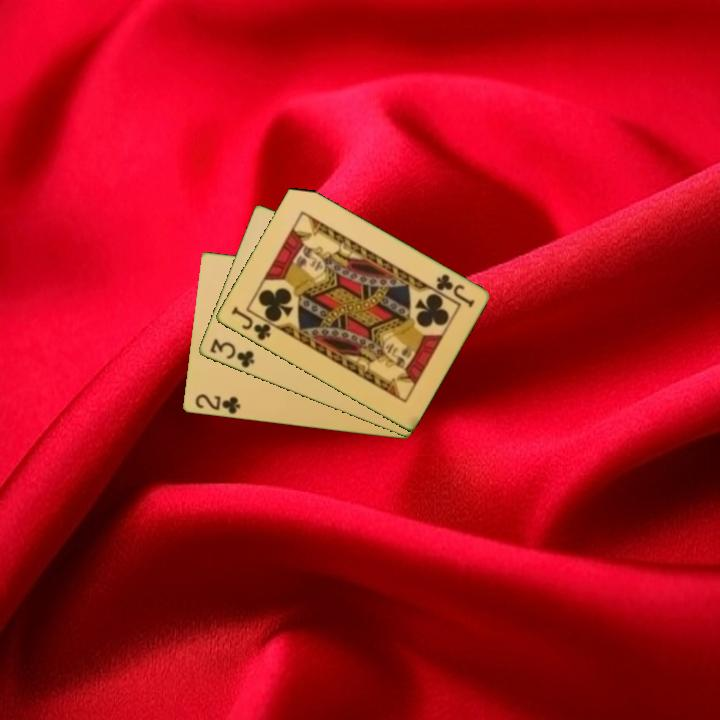2c: (191, 391, 243, 417)
3c: (206, 335, 257, 371)
Jc: (227, 303, 273, 344), (432, 270, 477, 310)
